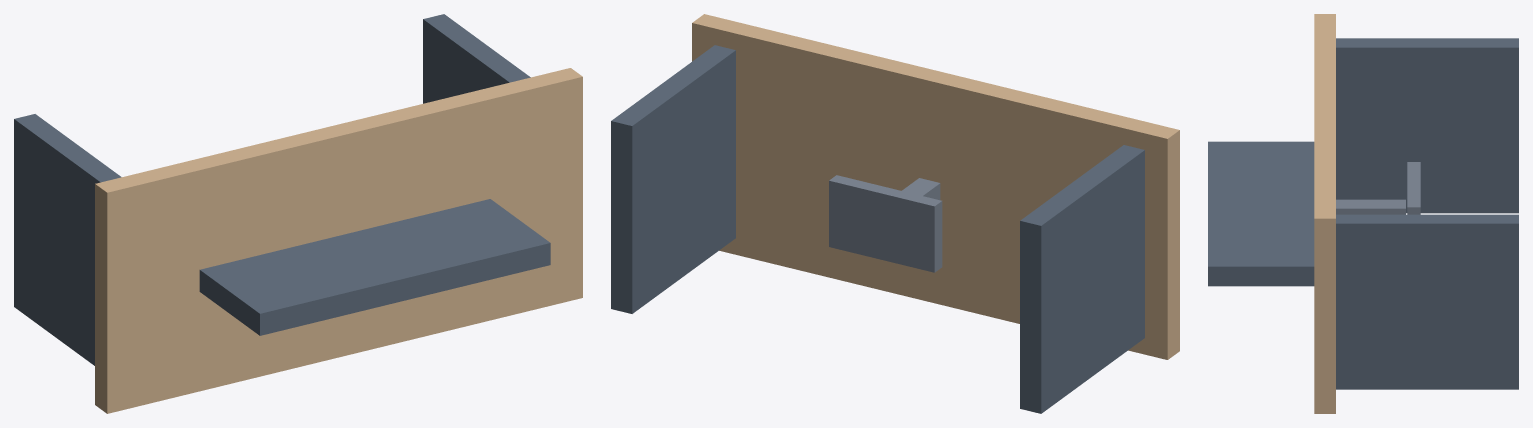
The model's file is research_terminal.glb.
3 views of the same model, side by side, from view 1: azimuth 30°, elevation 25°; view 2: azimuth 150°, elevation 25°; view 3: azimuth 270°, elevation 25° (orthographic). The views are drawn at different scales.
Parts seen in each view (by area): view 1: top_0, monitor_3, leg_1, leg_2; view 2: top_0, leg_1, leg_2, base_6, stand_5; view 3: leg_2, leg_1, monitor_3, top_0, stand_5, base_6.
Boxes of the visible parts, x1=… form: top_0: x1=95, y1=68, x2=582, y2=413; monitor_3: x1=199, y1=199, x2=550, y2=335; leg_1: x1=14, y1=114, x2=121, y2=365; leg_2: x1=423, y1=14, x2=530, y2=103; top_0: x1=692, y1=14, x2=1179, y2=359; leg_1: x1=1020, y1=145, x2=1144, y2=413; leg_2: x1=611, y1=45, x2=735, y2=313; base_6: x1=829, y1=175, x2=942, y2=272; stand_5: x1=902, y1=178, x2=940, y2=200; leg_2: x1=1336, y1=214, x2=1518, y2=389; leg_1: x1=1336, y1=38, x2=1518, y2=213; monitor_3: x1=1208, y1=141, x2=1314, y2=286; top_0: x1=1314, y1=14, x2=1335, y2=413; stand_5: x1=1336, y1=199, x2=1405, y2=214; base_6: x1=1407, y1=162, x2=1420, y2=214.
Bounding box in the file's own units: 1.8 × 0.8 × 1.16.
